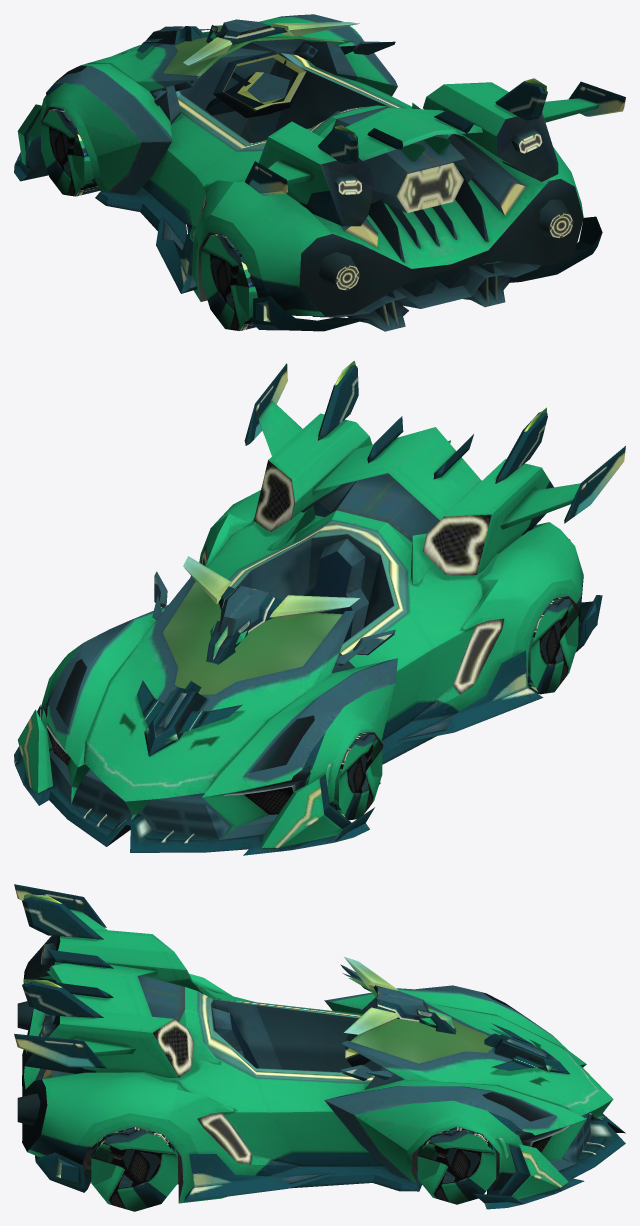
3 views of the same model, one above another, from view 1: azimuth 30°, elevation 25°; view 2: azimuth 150°, elevation 25°; view 3: azimuth 270°, elevation 25° (orthographic). The views are drawn at different scales.
Parts seen in each view (by area): view 1: body; view 2: body; view 3: body.
Part boxes in pixels (x1,y1,x2,y2): body: (14, 14, 625, 331); body: (14, 360, 625, 855); body: (14, 884, 625, 1211).
Bounding box in the file's own units: 2.32 × 1.37 × 3.76.
1 material, 1 textured.
